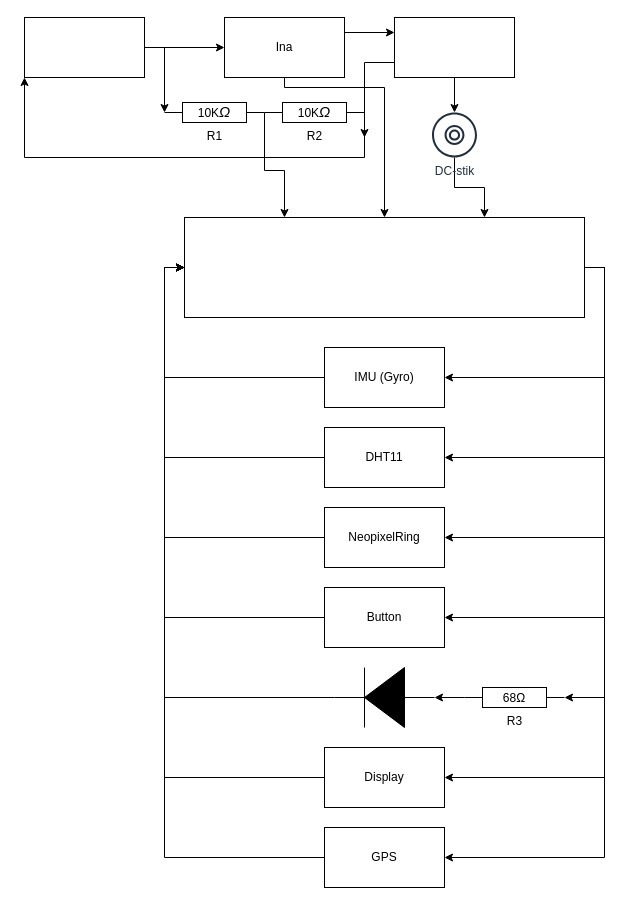
The diagram is 630 pixels wide and 905 high, and some of its shapes have lost their labels. The centre of each missing label's shape, as x and y in pixels:
"Batteri" belongs at pixel 84 47.
"BoostConverter" belongs at pixel 454 47.
"ESP" belongs at pixel 384 267.
